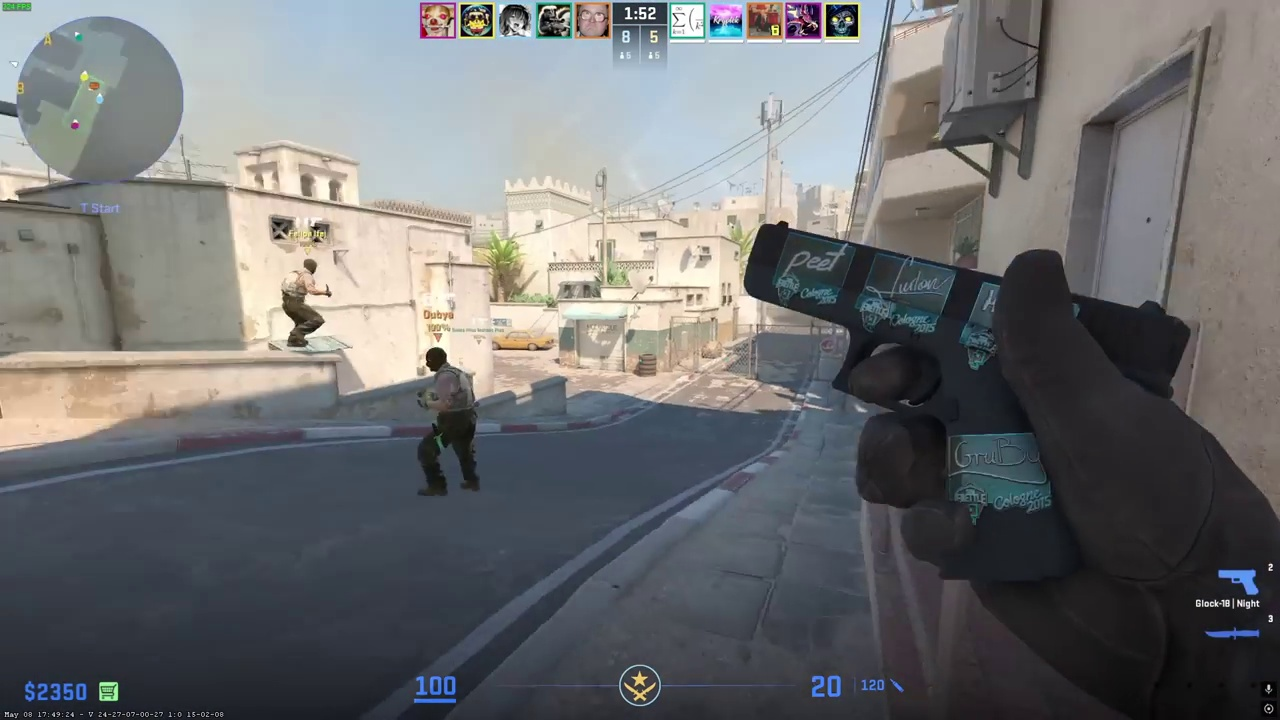Terrorist: (416, 347, 477, 499), (278, 258, 324, 348)
